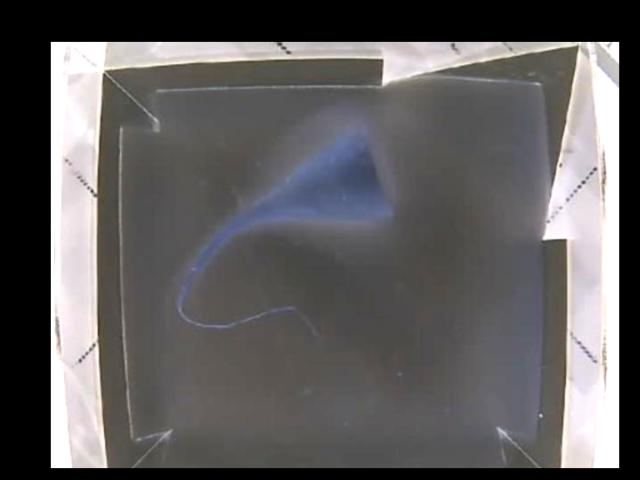Mooli: (271, 127, 408, 221)
